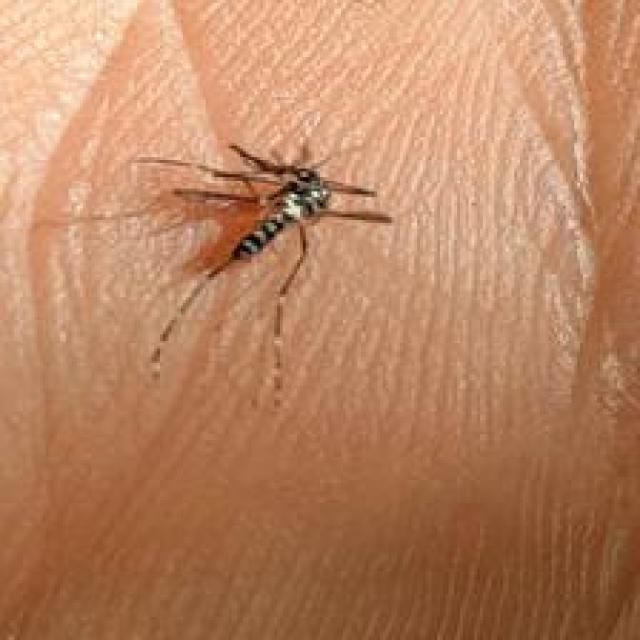Aedes albopictus: (129, 140, 394, 406)
